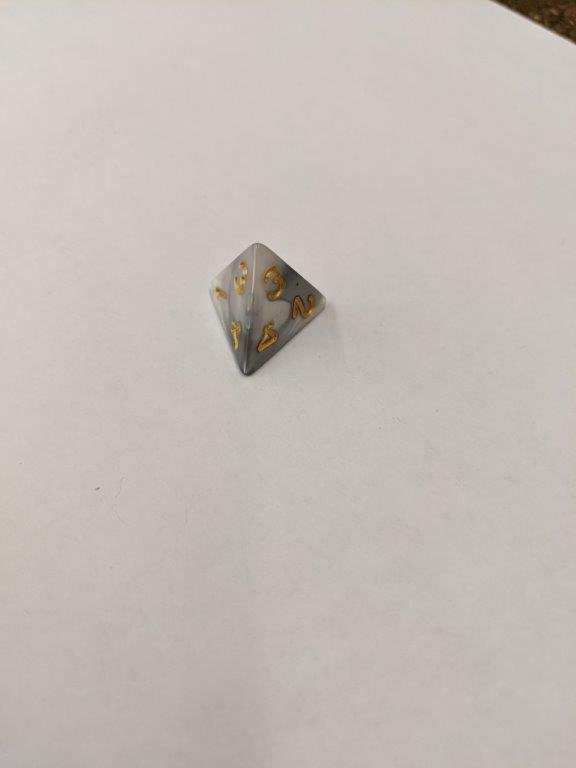d4-3: (205, 240, 331, 379)
